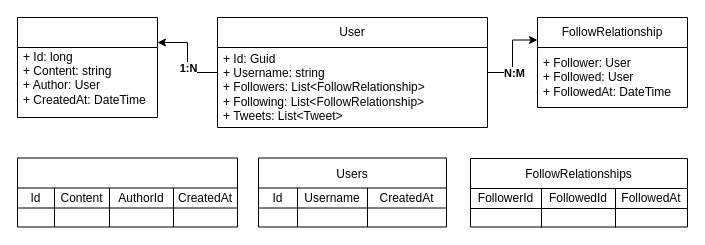
The diagram is 705 pixels wide and 245 high, and some of its shapes have lost their labels. The box of each missing label's shape, as (x1, y1, x2, y2) in pixels:
Tweet: (16, 16, 158, 118)
Tweets: (16, 157, 238, 227)
